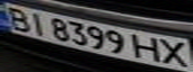3: (66, 19, 87, 47)
8: (45, 16, 72, 43)
9: (106, 27, 130, 56), (84, 24, 106, 52)
B: (3, 4, 33, 32)
H: (133, 33, 163, 63)
I: (24, 10, 51, 36)
X: (157, 37, 193, 70)
